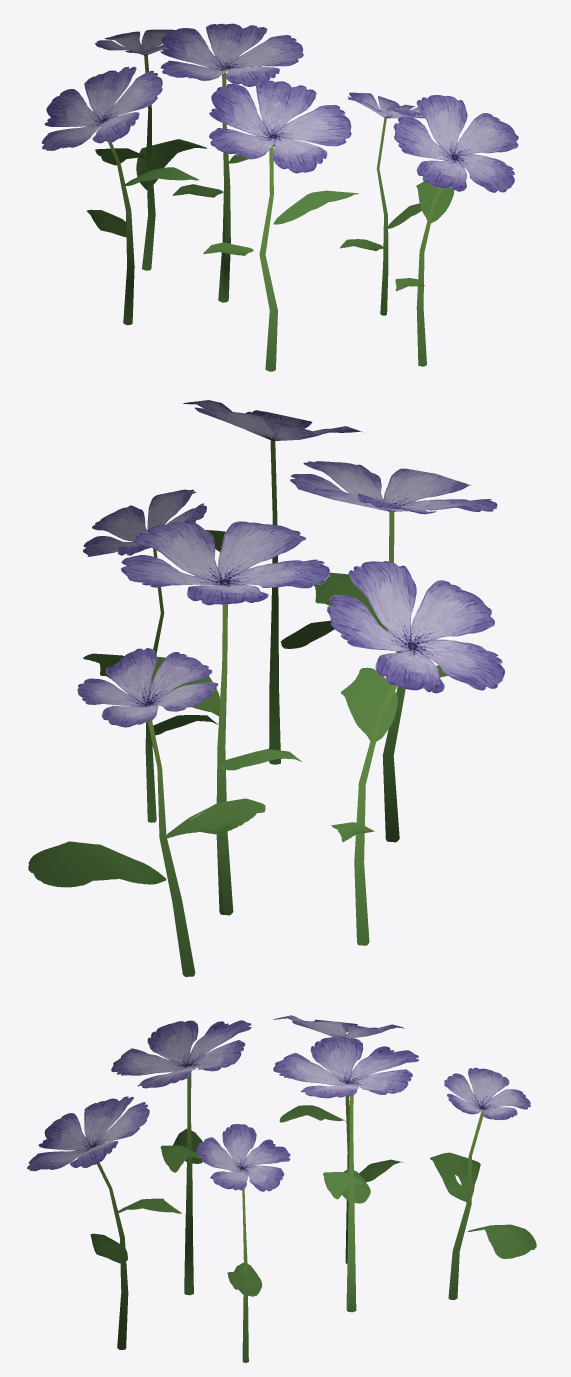
The model's file is FlowersC_Cluster.fbx.
3 views of the same model, one above another, from view 1: azimuth 30°, elevation 25°; view 2: azimuth 150°, elevation 25°; view 3: azimuth 270°, elevation 25° (orthographic). The views are drawn at different scales.
Visible parts, largest first — view 1: FlowerC_ClusterLOD0; view 2: FlowerC_ClusterLOD0; view 3: FlowerC_ClusterLOD0.
Part boxes in pixels (x1,y1,x2,y2): FlowerC_ClusterLOD0: (41,23,518,371); FlowerC_ClusterLOD0: (28,400,504,976); FlowerC_ClusterLOD0: (27,1015,536,1362).
Size of what is drawn, in the model's own units: 82.3 by 56.97 by 107.
